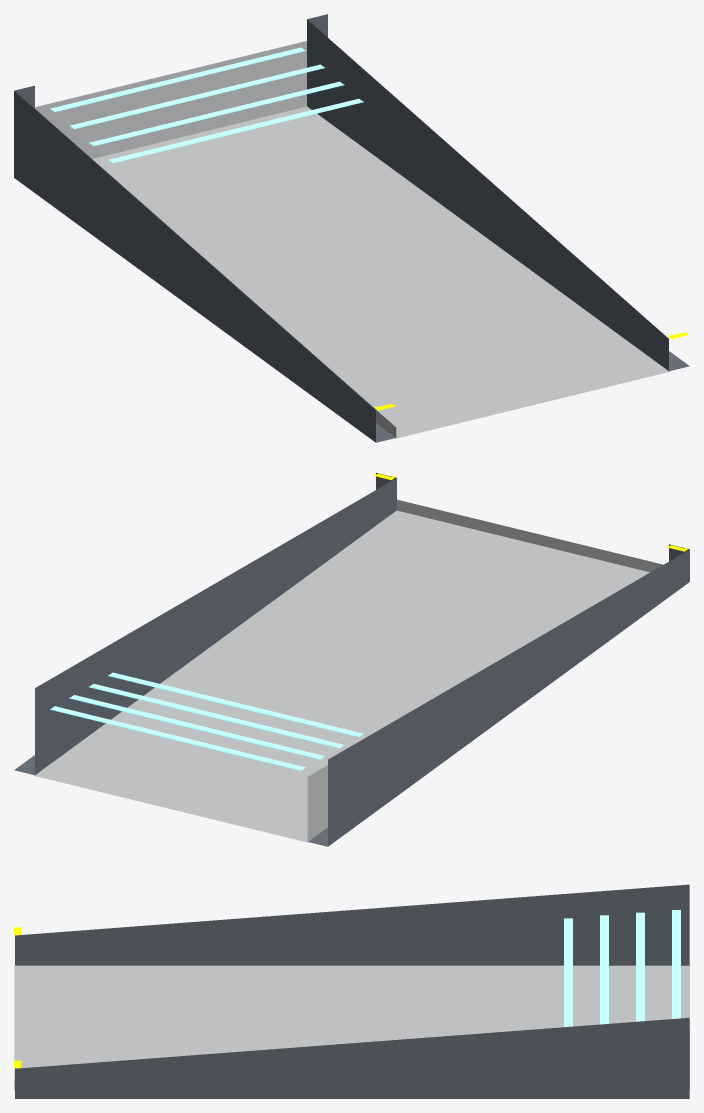
Rendered from ext_kerb_ramp_03.glb.
3 renders of one model, top to bottom at view 1: azimuth 30°, elevation 25°; view 2: azimuth 150°, elevation 25°; view 3: azimuth 270°, elevation 25°, orthographic. The views are drawn at different scales.
Parts seen in each view (by area): view 1: Ramp, Upstands, Tactile_Bars; view 2: Ramp, Upstands, Tactile_Bars; view 3: Upstands, Ramp, Tactile_Bars.
Part boxes in pixels (x1,y1,x2,y2): Ramp: (34, 41, 669, 438); Upstands: (14, 14, 689, 442); Tactile_Bars: (50, 47, 363, 163); Ramp: (34, 499, 662, 842); Upstands: (14, 473, 689, 846); Tactile_Bars: (50, 672, 363, 770); Upstands: (15, 884, 689, 1098); Ramp: (14, 965, 689, 1090); Tactile_Bars: (564, 910, 680, 1027).
Bounding box in the file's own units: 1.5 × 0.3998 × 3.
